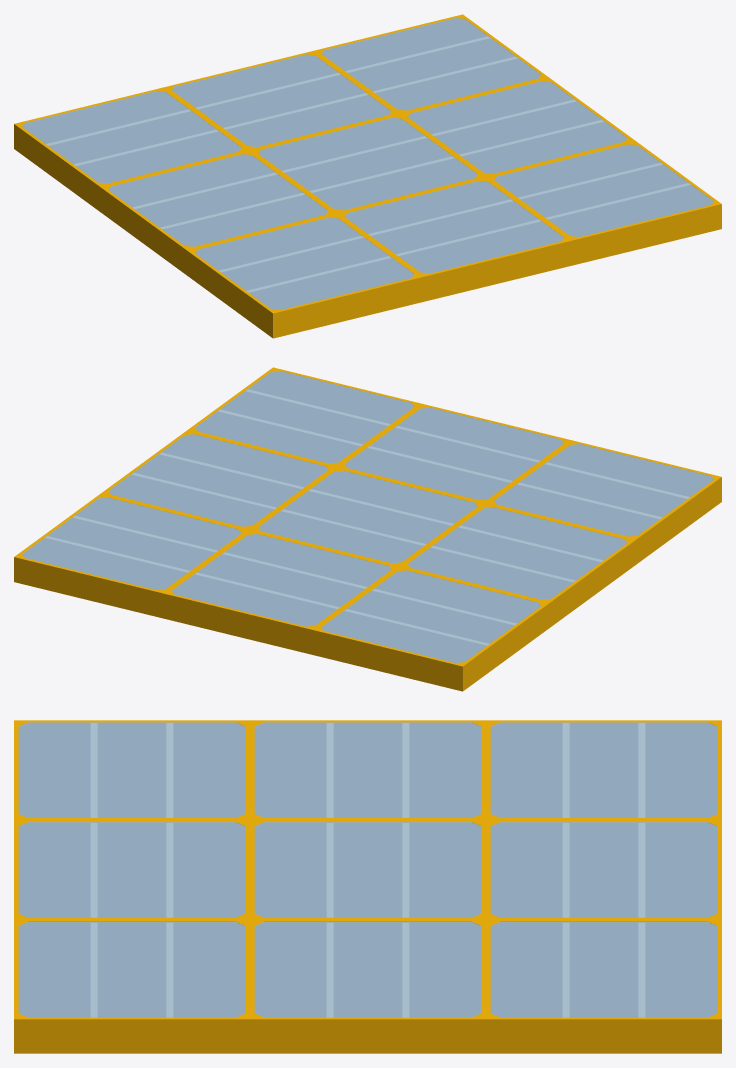
Rendered from epe_solar_flat_3x3.dae.
The picture shows the model from 3 angles, top to bottom: view 1: azimuth 30°, elevation 25°; view 2: azimuth 150°, elevation 25°; view 3: azimuth 270°, elevation 25°; orthographic projection. The views are drawn at different scales.
Parts seen in each view (by area): view 1: solar_flat_3x3; view 2: solar_flat_3x3; view 3: solar_flat_3x3.
Boxes of the visible parts, <box> form: solar_flat_3x3: <box>14,14,721,338</box>; solar_flat_3x3: <box>14,367,721,691</box>; solar_flat_3x3: <box>14,720,721,1053</box>.
Size of the model in its own units: 0.75 by 0.75 by 0.04.
